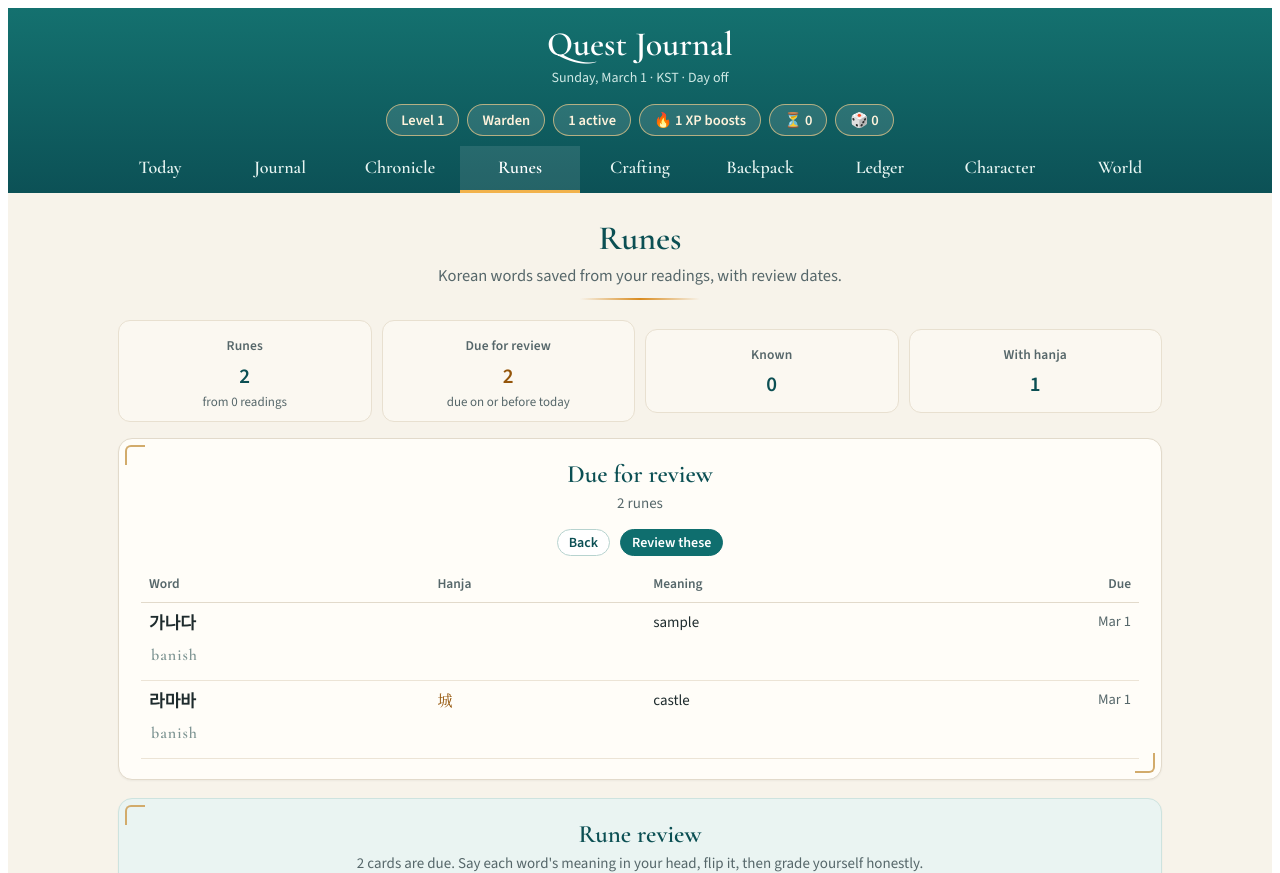
Test case: rune delete › asks before banishing, updates the due count, and undoes
Earlier steps of the test are not shown.
Expected: the button "Due for review 2 due on or before today" is shown, [382, 320, 635, 422]
Click the button with aria-label "Banish 가나다" at (174, 655), box [149, 637, 200, 673]
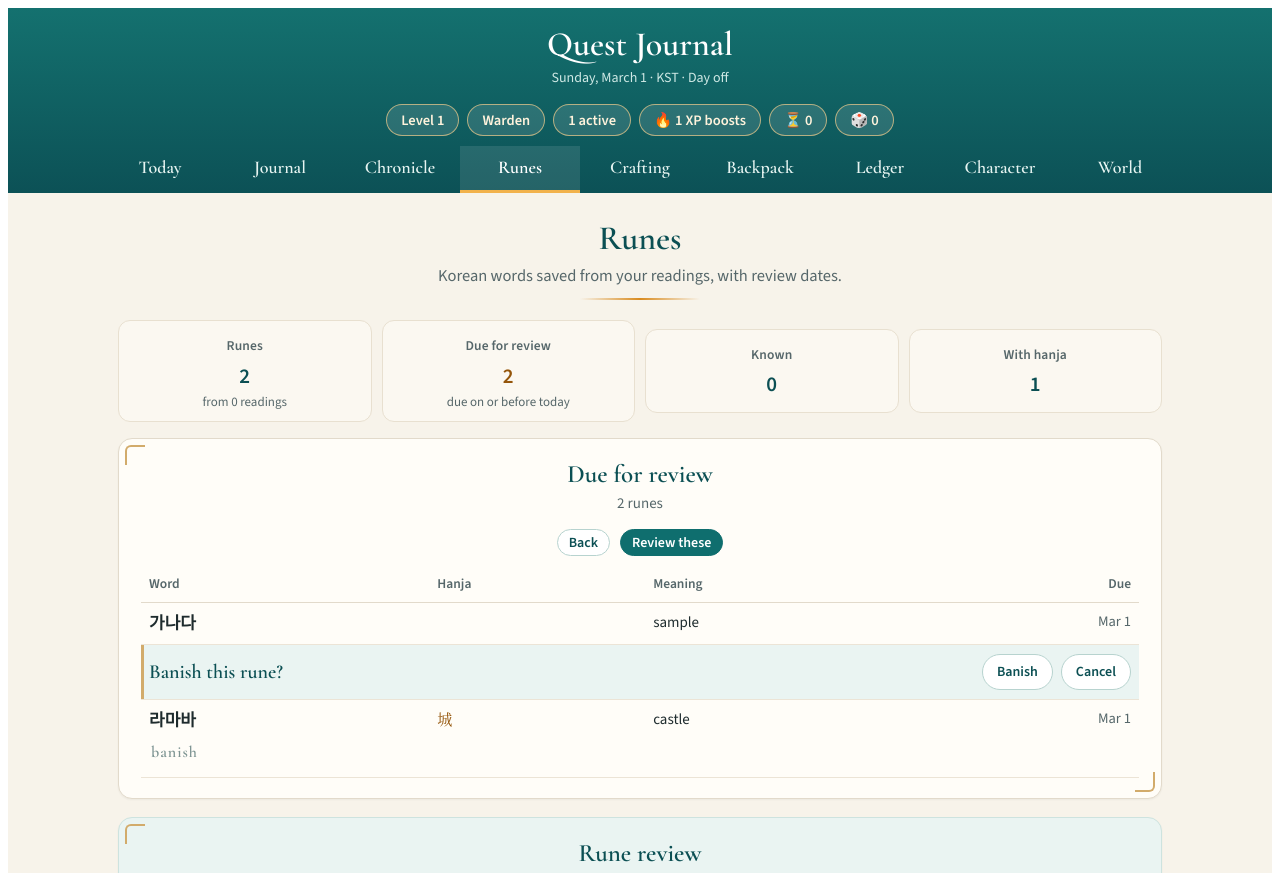
Expected: the text "Banish this rune?" is shown, [149, 660, 283, 684]
Click the button "Cancel" at (1096, 672), box [1061, 654, 1131, 690]
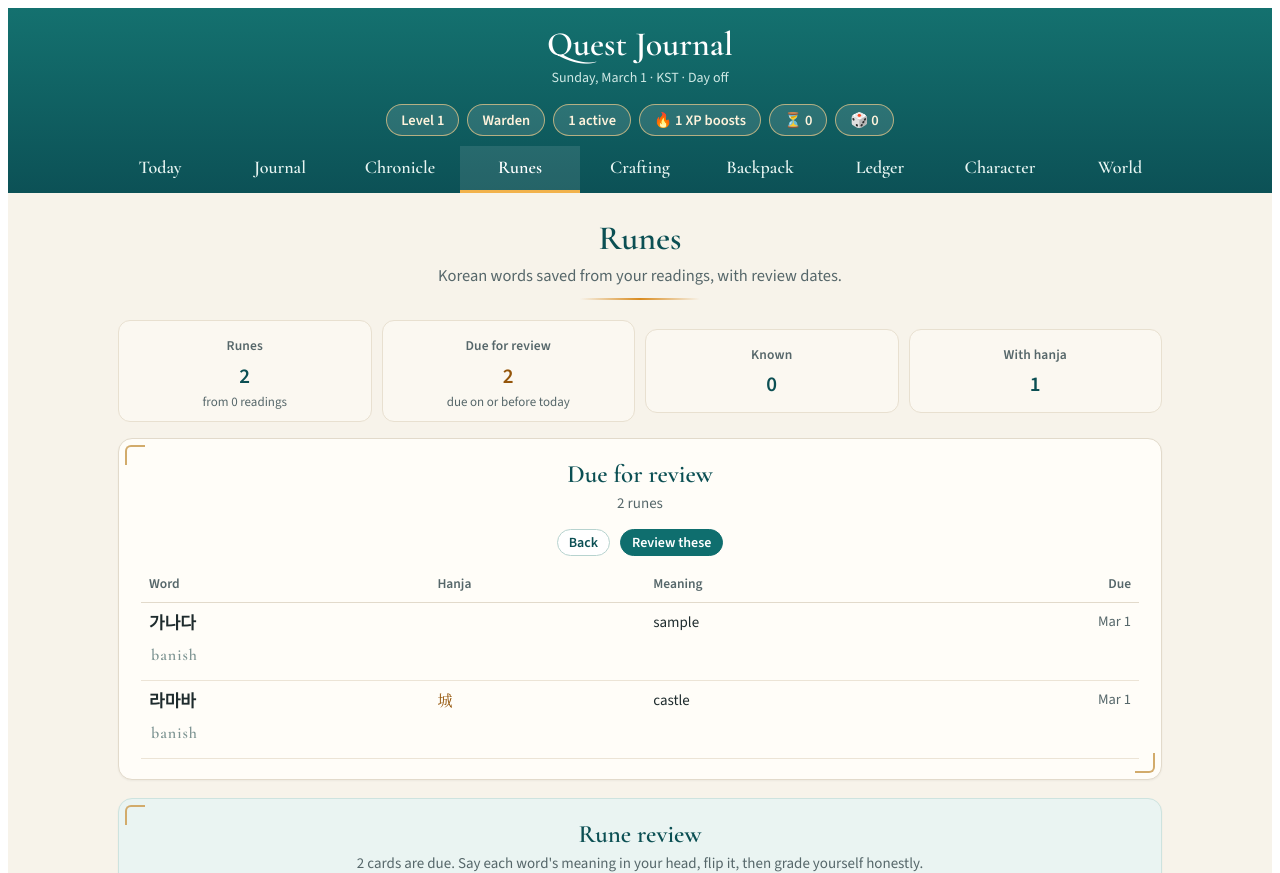
Expected: the button with aria-label "Banish 가나다" is shown
Expected: the text "Banish this rune?" is gone
Click the button with aria-label "Banish 가나다" at (174, 655), box [149, 637, 200, 673]
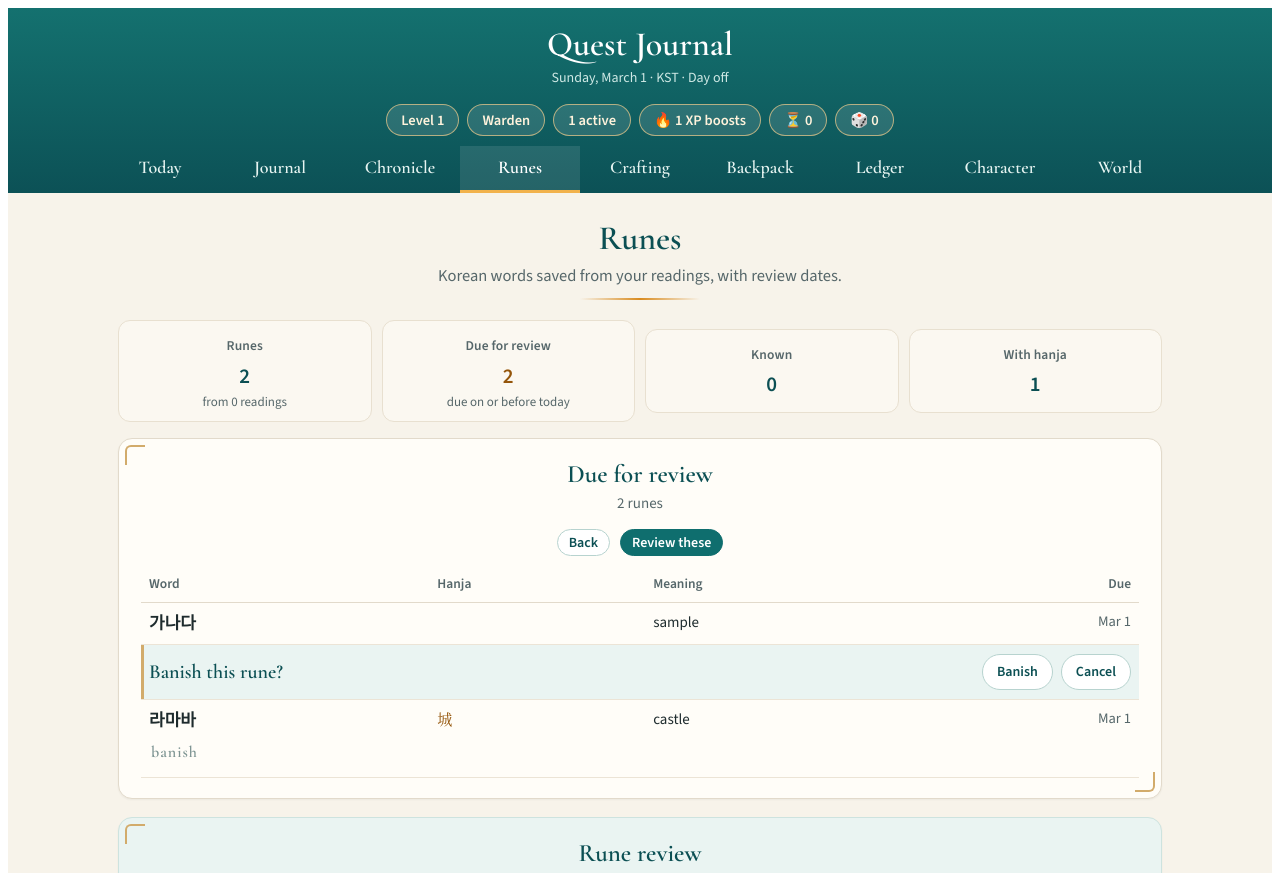
Click the button "Banish" at (1017, 672), box [982, 654, 1053, 690]
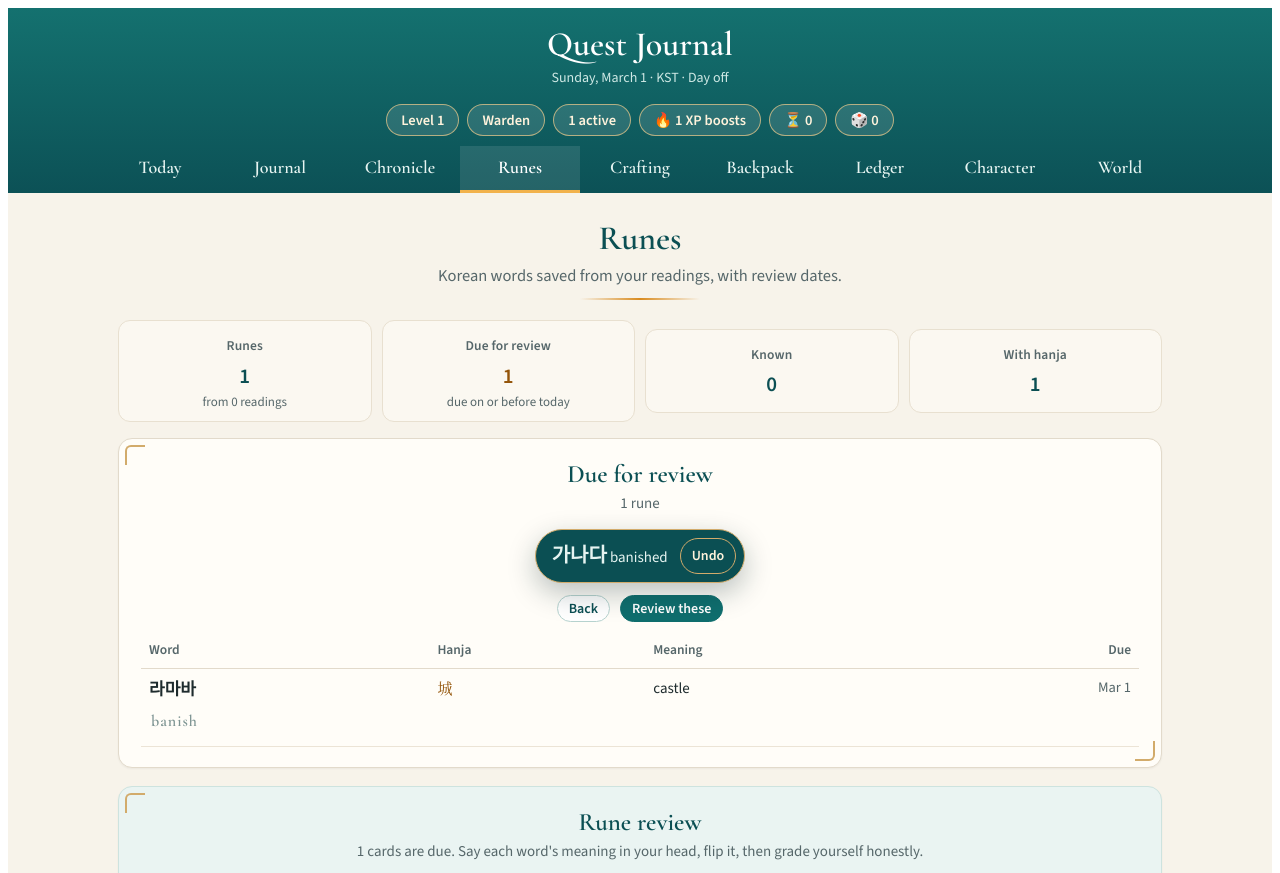
Expected: the button "Due for review 1 due on or before today" is shown, [382, 320, 635, 422]
Expected: the message shows "banished", [607, 547, 668, 567]
Click the button "Undo" at (708, 556), box [680, 538, 736, 574]
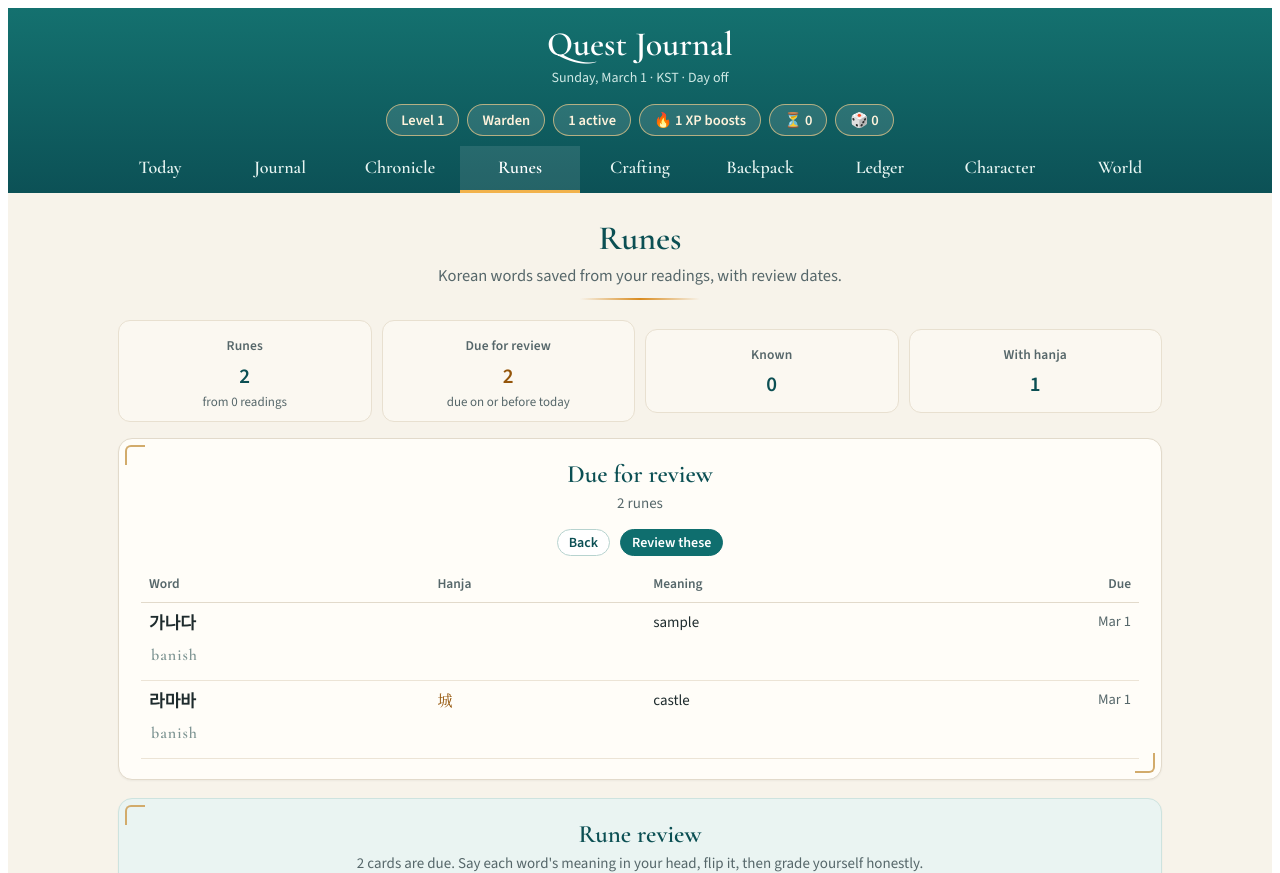
Expected: the button with aria-label "Banish 가나다" is shown, [149, 637, 200, 673]
Expected: the button "Due for review 2 due on or before today" is shown, [382, 320, 635, 422]
Click the tab "Ledger" at (880, 169), box [820, 146, 940, 193]
(page scrolled)
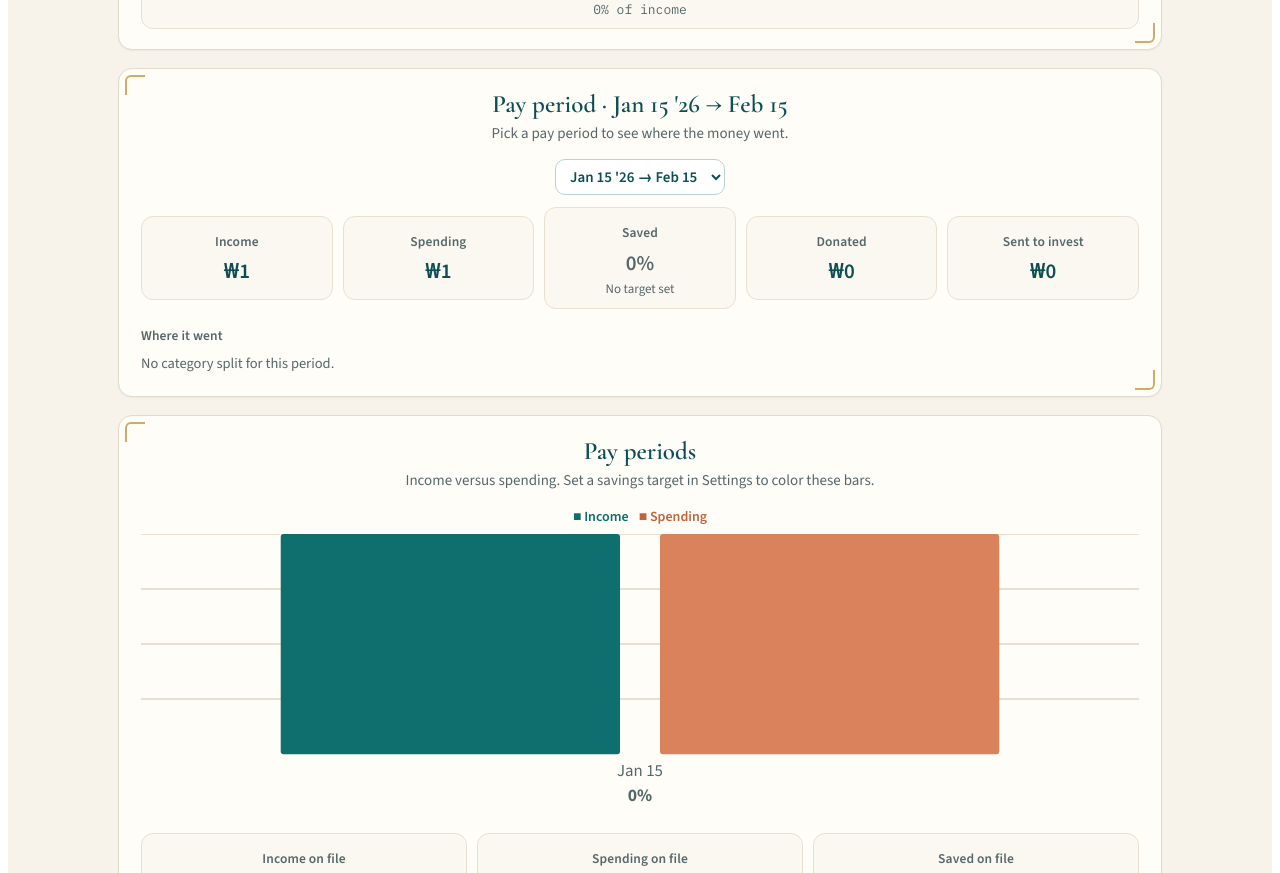
Expected: the heading "Pay periods" is shown, [584, 436, 696, 466]
